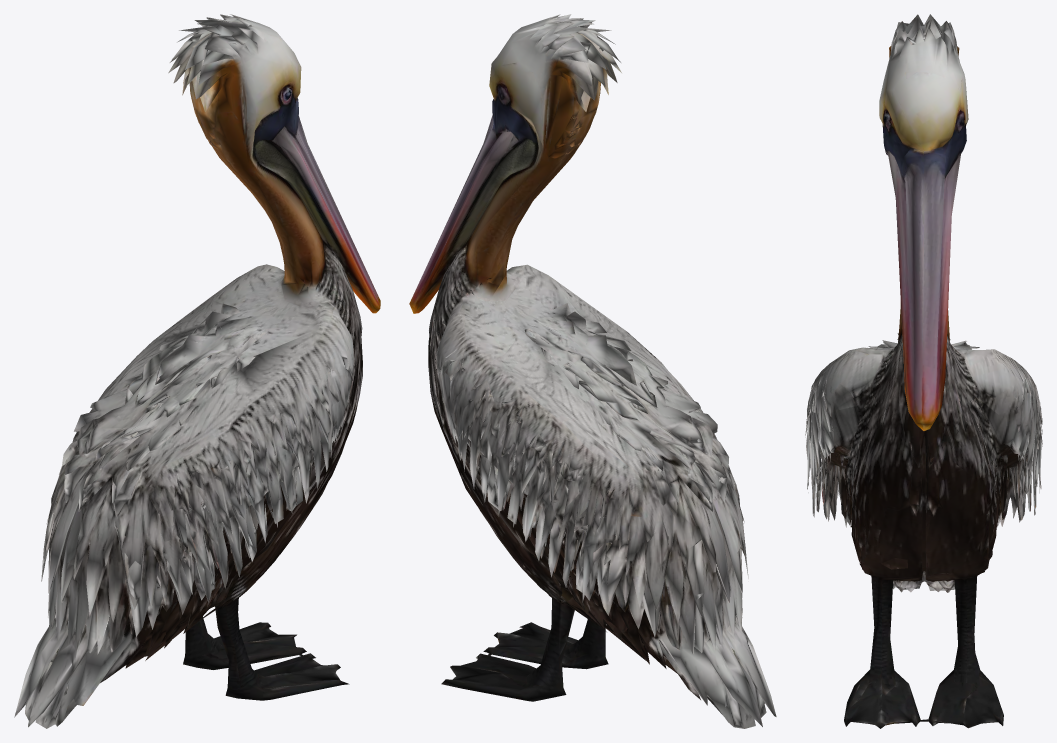
File: brown-pelican.glb
3 renders of one model, left to right at view 1: azimuth 30°, elevation 25°; view 2: azimuth 150°, elevation 25°; view 3: azimuth 270°, elevation 25°, orthographic.
Parts seen in each view (by area): view 1: material; view 2: material; view 3: material.
Part boxes in pixels (x1,y1,x2,y2): material: [14, 14, 380, 728]; material: [409, 14, 776, 728]; material: [805, 14, 1042, 728].
Size of the model in its own units: 0.6006 by 1.06 by 0.3443.
Materials: 1 (1 with a texture image).
